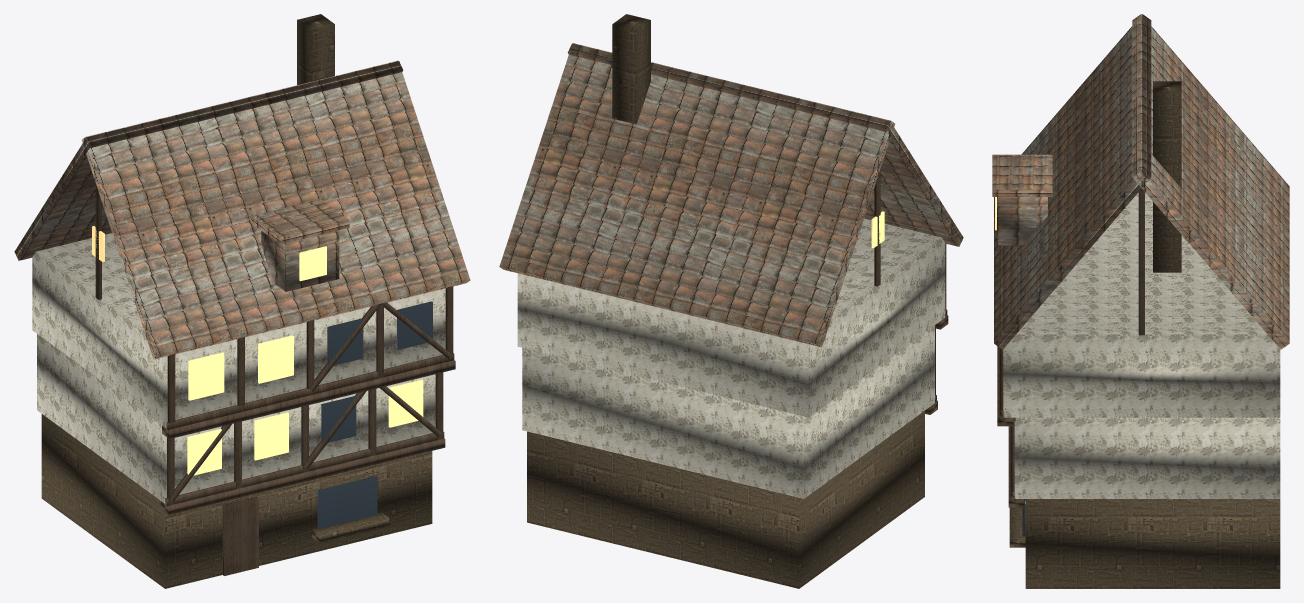
File: house_2.glb
3 renders of one model, left to right at view 1: azimuth 30°, elevation 25°; view 2: azimuth 150°, elevation 25°; view 3: azimuth 270°, elevation 25°, orthographic. The views are drawn at different scales.
Visible parts, largest first — view 1: house_2; view 2: house_2; view 3: house_2.
Boxes of the visible parts, x1=… form: house_2: x1=14, y1=14, x2=470, y2=588; house_2: x1=499, y1=14, x2=963, y2=588; house_2: x1=992, y1=14, x2=1289, y2=588.
Size of the model in its own units: 11.7 by 16.56 by 9.35.
6 materials, 4 textured.
